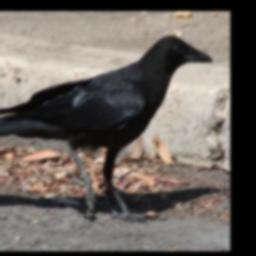Crow: (0, 31, 215, 220)
